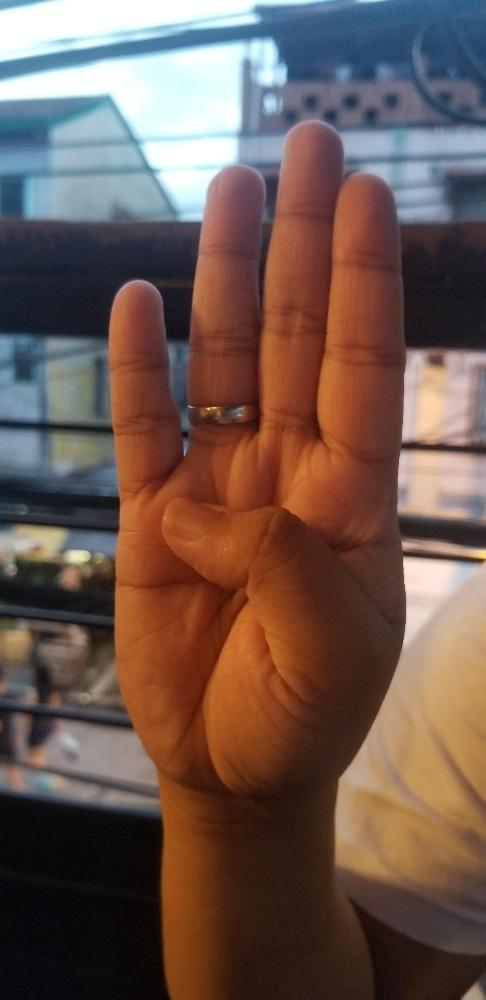b: (103, 119, 412, 794)
